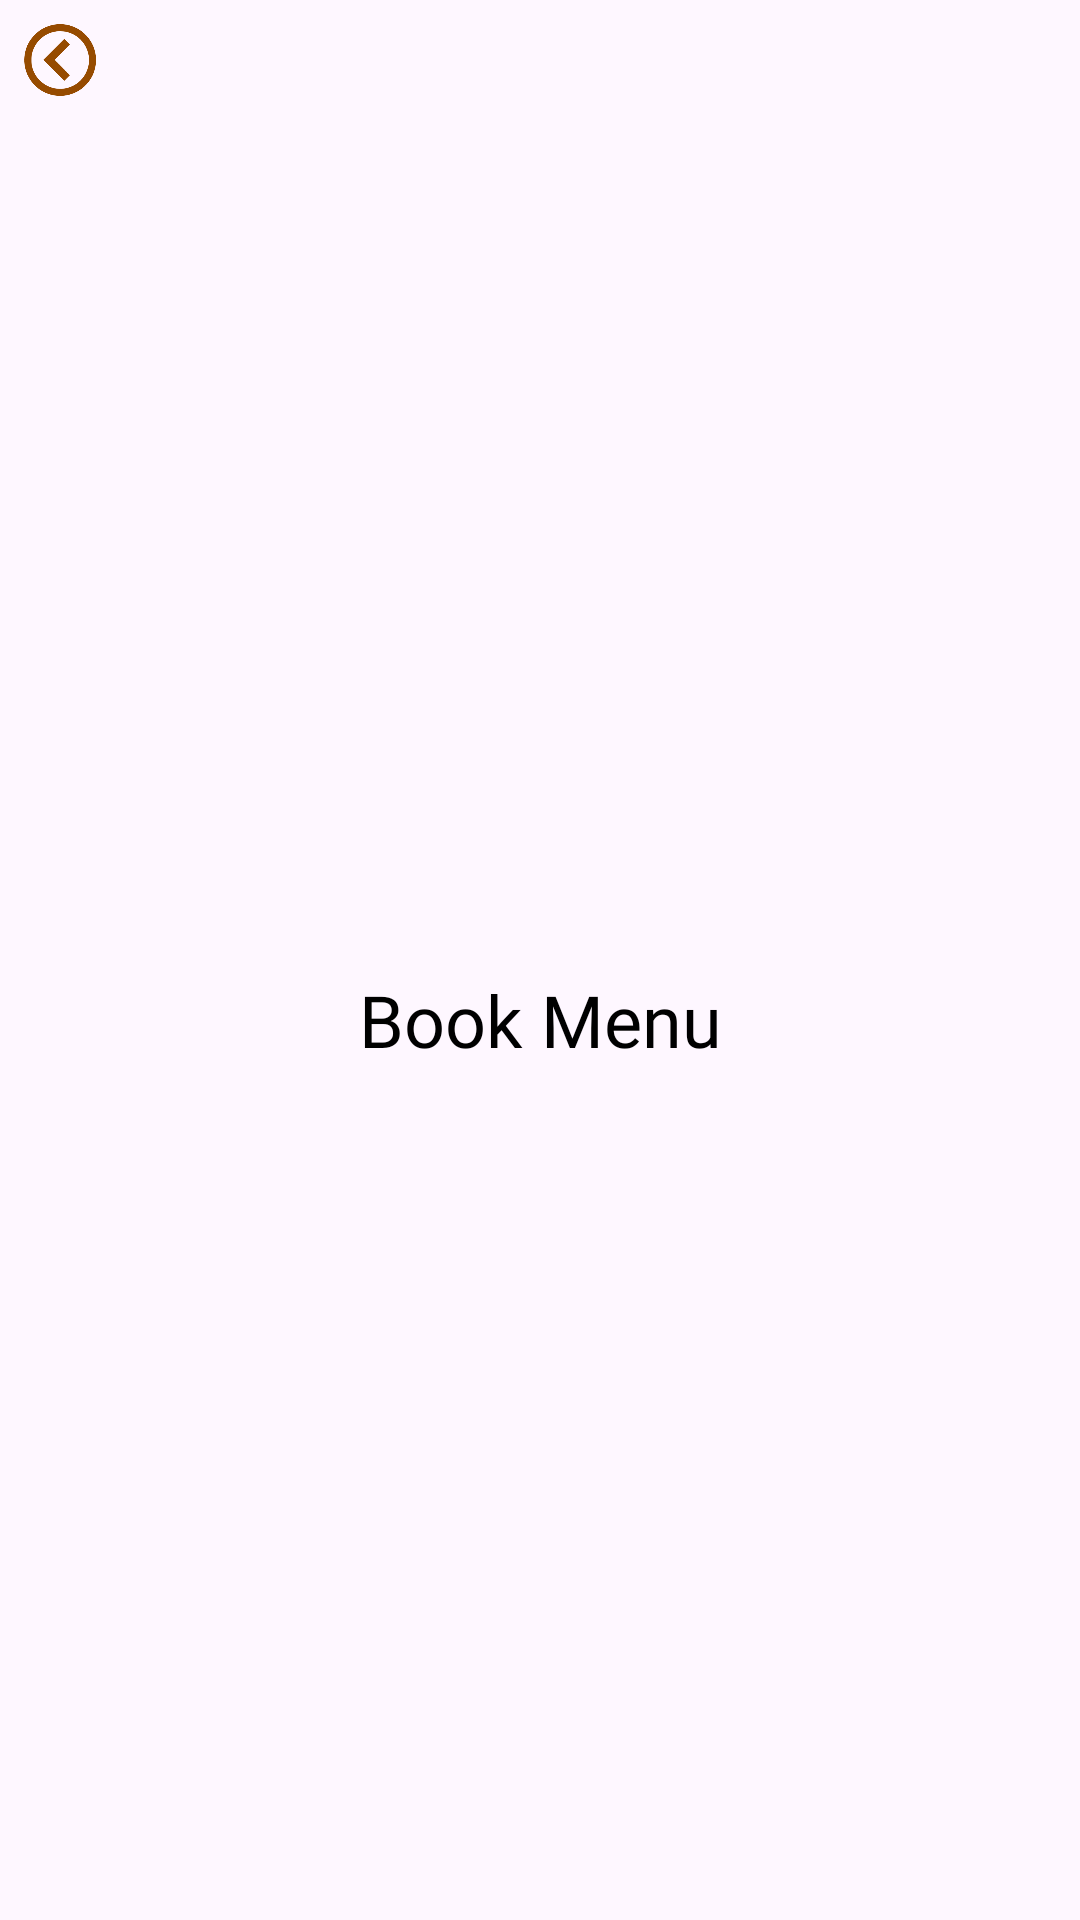

Named icons in this screenshot (1080px×1920px) and their bounding boxes, (x1, y1, x2, y2):
leftarrow: (24, 24, 96, 96)
